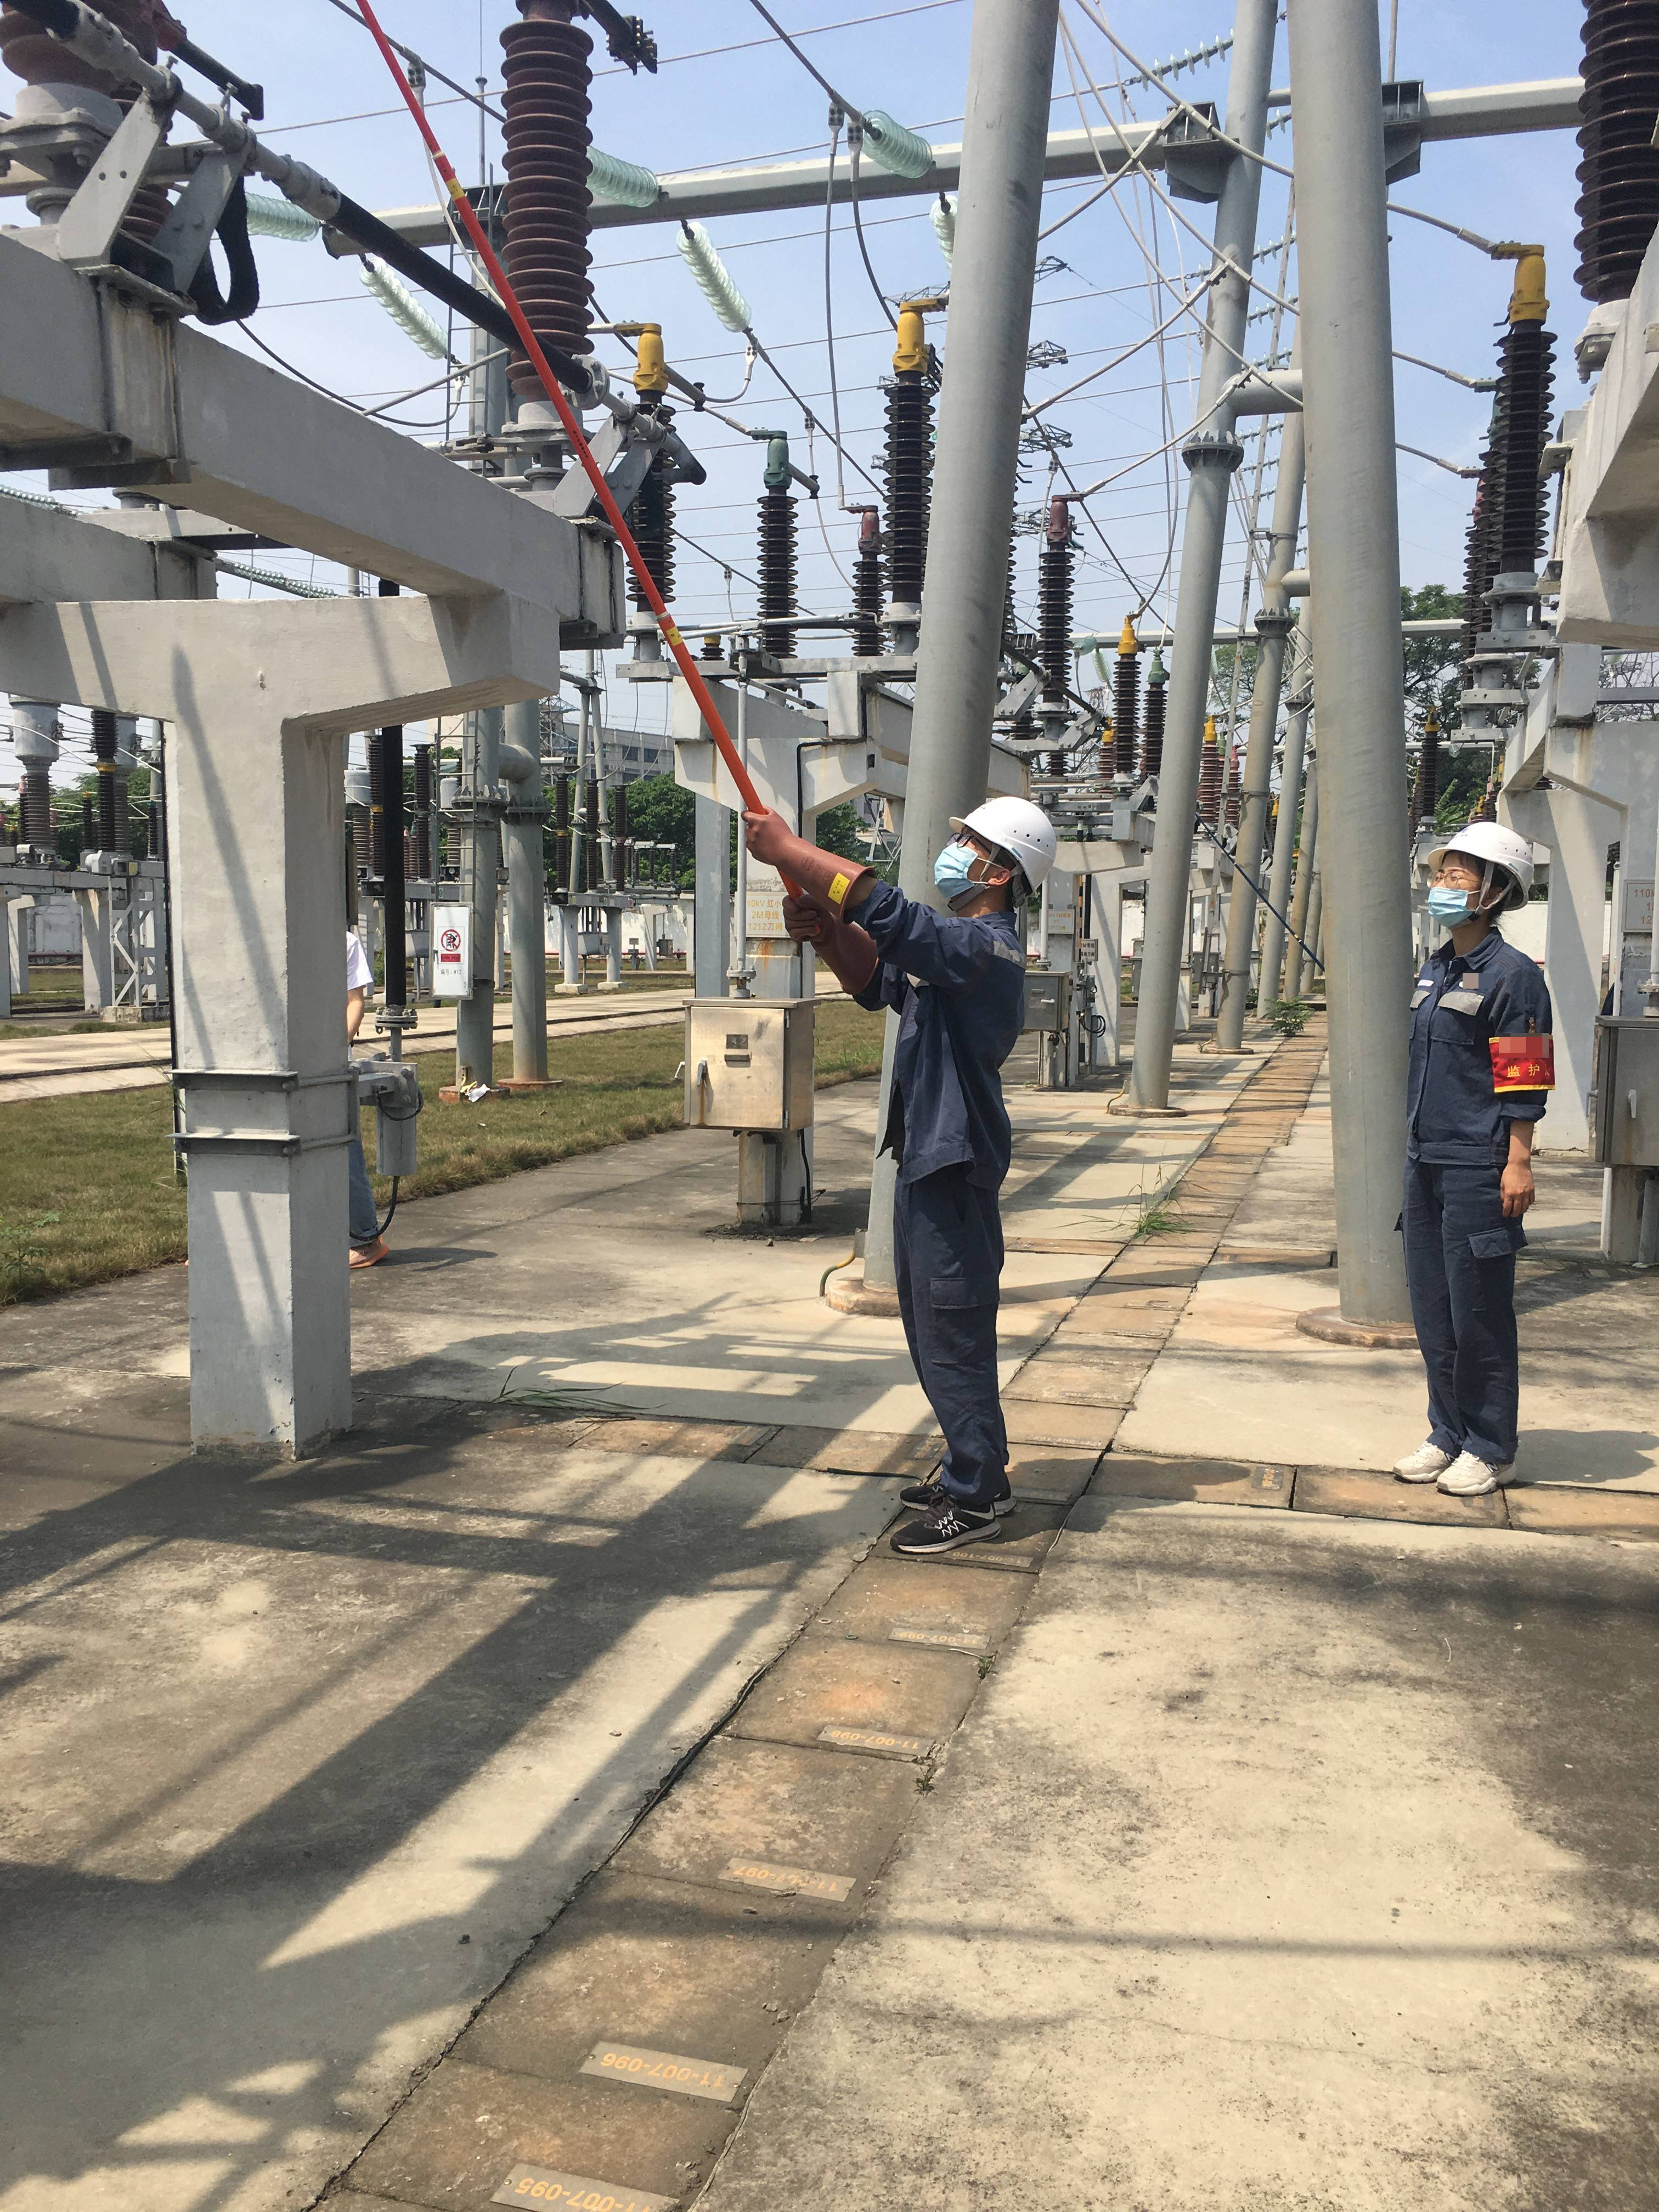downsuit: (885, 1186, 1018, 1501), (1403, 1191, 1525, 1460)
upsuit: (875, 911, 1028, 1172), (1403, 942, 1561, 1165)
wrongtop: (1493, 1101, 1539, 1205)
